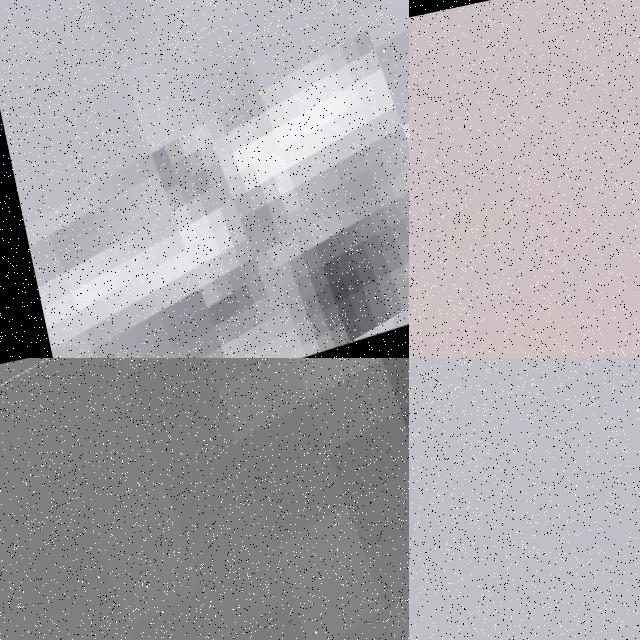drone: (0, 0, 409, 358), (0, 358, 409, 640), (409, 0, 640, 358)
